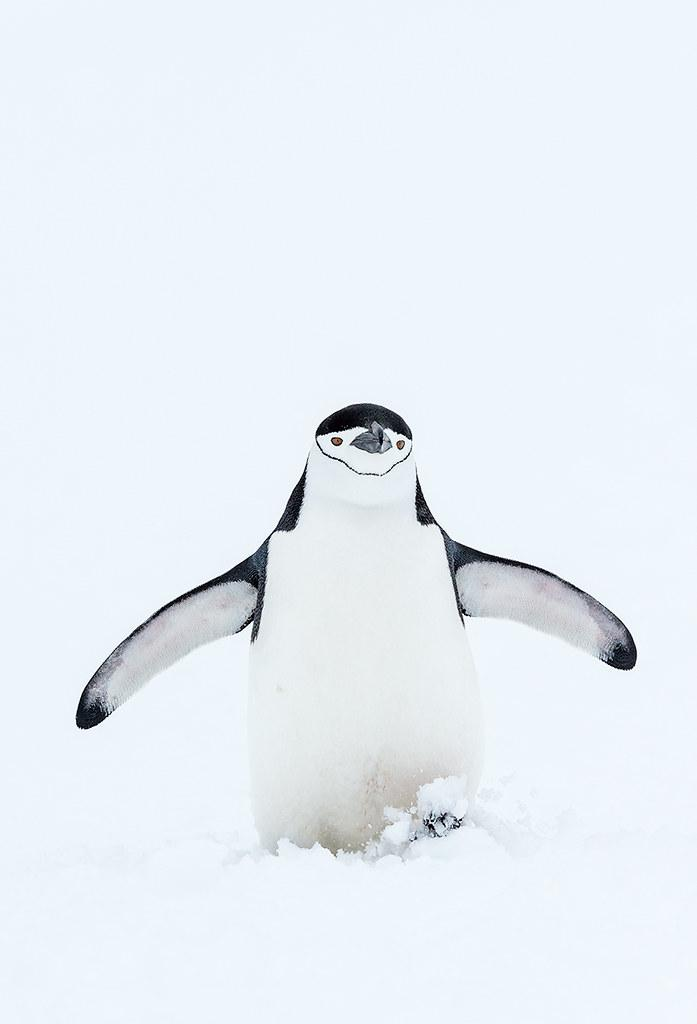chinstrap: (59, 338, 637, 909)
